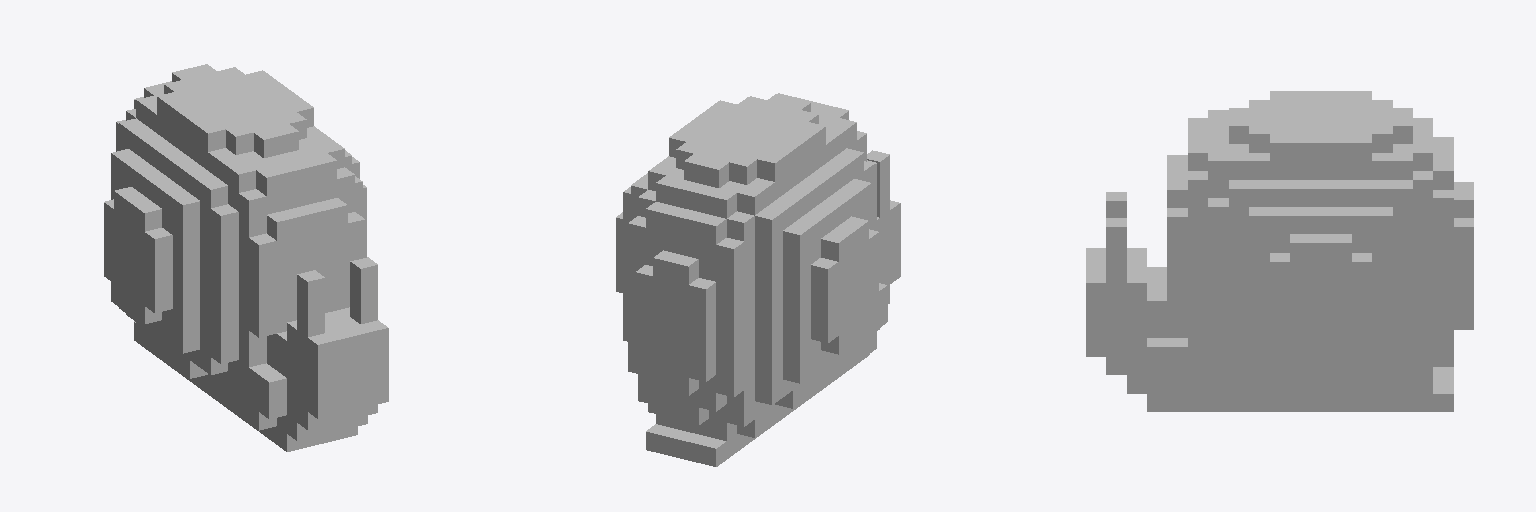
The model's file is player2.obj.
The picture shows the model from 3 angles: view 1: azimuth 30°, elevation 25°; view 2: azimuth 150°, elevation 25°; view 3: azimuth 270°, elevation 25°; orthographic projection.
Visible parts, largest first — view 1: object 1; view 2: object 1; view 3: object 1.
Boxes of the visible parts, box(x1,y1,x2,y2) form: object 1: box(104, 64, 388, 451); object 1: box(616, 93, 900, 466); object 1: box(1086, 91, 1473, 411).
Size of the model in its own units: 1.2 by 1.5 by 1.9.